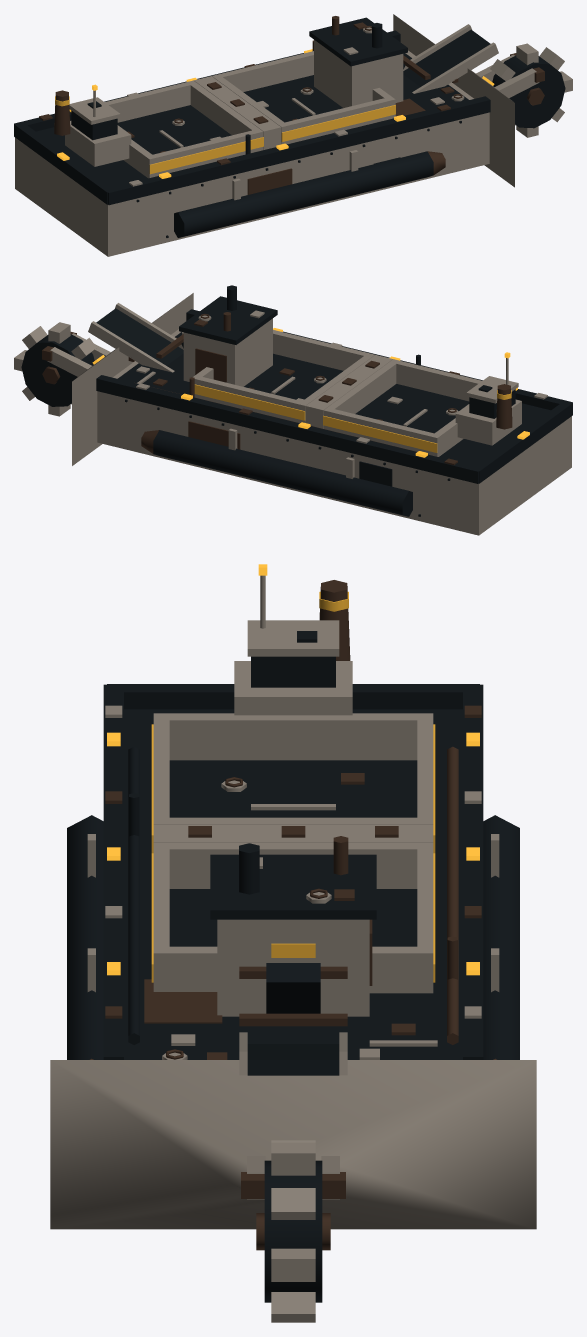
File: harvester-bathyarch.glb
The picture shows the model from 3 angles, top to bottom: view 1: azimuth 30°, elevation 25°; view 2: azimuth 150°, elevation 25°; view 3: azimuth 270°, elevation 25°; orthographic projection. The views are drawn at different scales.
Visible parts, largest first — view 1: barge_hull, deck_plate, ballast_s, gunwale_s, crusher_house, bow_apron, dredge_wheel, crusher_roof, hold_fwd_wall_p, gunwale_aft, hold_aft_wall_p, conveyor_ramp (+19 smaller); view 2: barge_hull, deck_plate, ballast_p, gunwale_p, bow_apron, crusher_house, dredge_wheel, crusher_roof, hold_fwd_wall_s, gunwale_aft, hold_aft_wall_s, conveyor_ramp (+20 smaller); view 3: bow_apron, deck_plate, hold_aft_wall_a, crusher_house, crusher_roof, ballast_p, ballast_s, gunwale_p, gunwale_s, hold_fwd_wall_a, hold_fwd_wall_f, gunwale_aft (+23 smaller).
Boxes of the visible parts, x1=… form: barge_hull: x1=15, y1=50, x2=489, y2=256; deck_plate: x1=36, y1=53, x2=468, y2=187; ballast_s: x1=174, y1=151, x2=433, y2=237; gunwale_s: x1=104, y1=96, x2=490, y2=205; crusher_house: x1=314, y1=40, x2=403, y2=107; bow_apron: x1=393, y1=14, x2=514, y2=187; dredge_wheel: x1=492, y1=55, x2=565, y2=128; crusher_roof: x1=309, y1=17, x2=407, y2=66; hold_fwd_wall_p: x1=212, y1=51, x2=313, y2=91; gunwale_aft: x1=14, y1=122, x2=113, y2=204; hold_aft_wall_p: x1=104, y1=81, x2=191, y2=122; conveyor_ramp: x1=403, y1=29, x2=490, y2=86; barge_hull: x1=97, y1=329, x2=571, y2=535; deck_plate: x1=118, y1=332, x2=550, y2=465; ballast_p: x1=153, y1=430, x2=412, y2=516; gunwale_p: x1=96, y1=375, x2=482, y2=483; bow_apron: x1=72, y1=293, x2=193, y2=465; crusher_house: x1=183, y1=318, x2=272, y2=386; dredge_wheel: x1=21, y1=334, x2=94, y2=406; crusher_roof: x1=179, y1=296, x2=277, y2=344; hold_fwd_wall_s: x1=273, y1=330, x2=374, y2=370; gunwale_aft: x1=471, y1=401, x2=572, y2=483; hold_aft_wall_s: x1=390, y1=360, x2=481, y2=401; conveyor_ramp: x1=96, y1=308, x2=183, y2=365; bow_apron: x1=50, y1=1060, x2=536, y2=1229; deck_plate: x1=124, y1=709, x2=462, y2=1059; hold_aft_wall_a: x1=154, y1=713, x2=432, y2=760; crusher_house: x1=217, y1=919, x2=369, y2=1016; crusher_roof: x1=210, y1=854, x2=376, y2=919; ballast_p: x1=483, y1=815, x2=519, y2=1059; ballast_s: x1=67, y1=815, x2=103, y2=1059; gunwale_p: x1=463, y1=684, x2=483, y2=1059; gunwale_s: x1=103, y1=684, x2=123, y2=1059; hold_fwd_wall_a: x1=153, y1=842, x2=433, y2=888; hold_fwd_wall_f: x1=153, y1=946, x2=433, y2=993; gunwale_aft: x1=107, y1=684, x2=479, y2=709.
Size of the model in its own units: 75 by 22.57 by 31.12.
